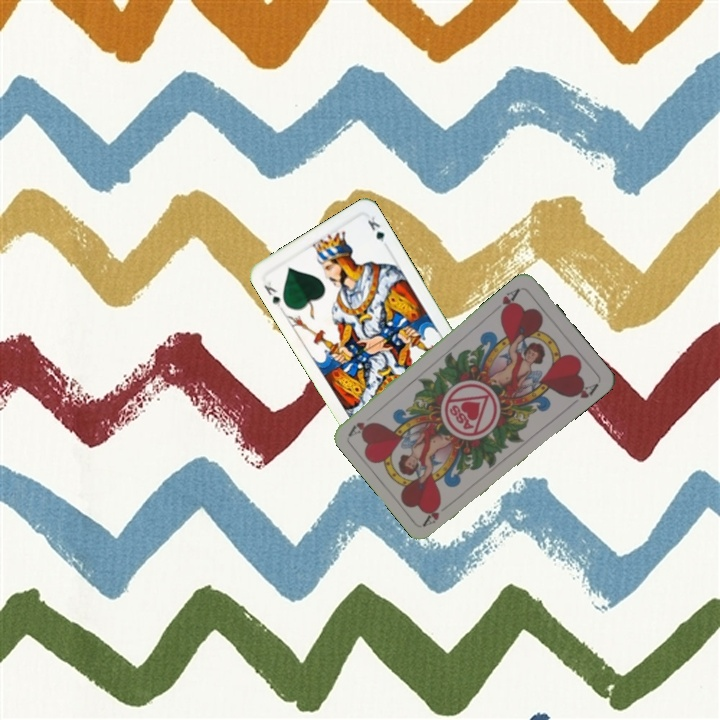GK: (260, 277, 285, 312)
HA: (420, 498, 455, 528), (496, 284, 523, 318)
